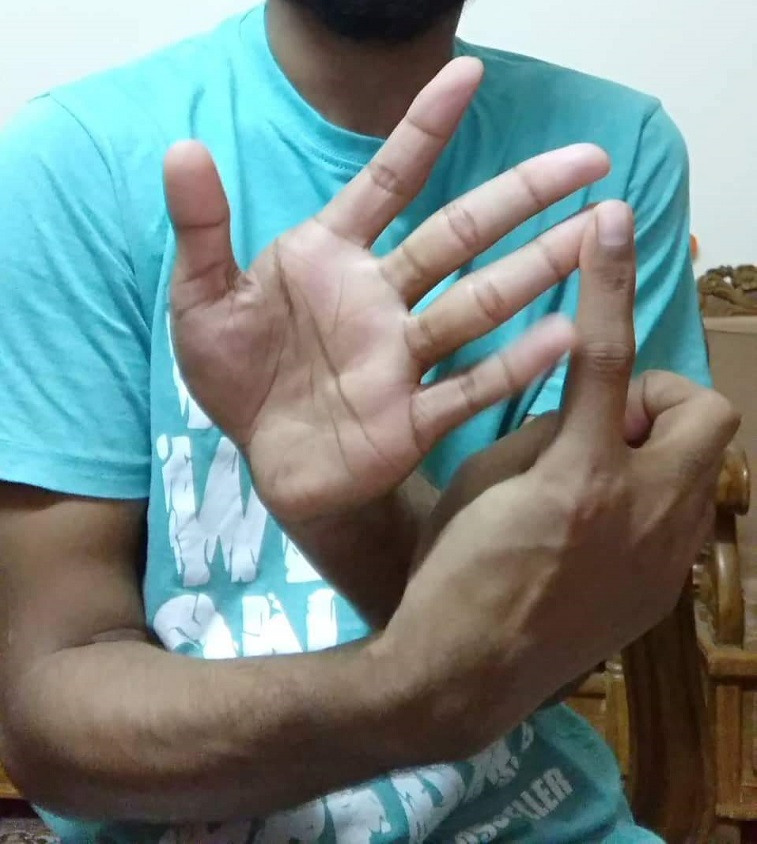e: (168, 65, 733, 452)
